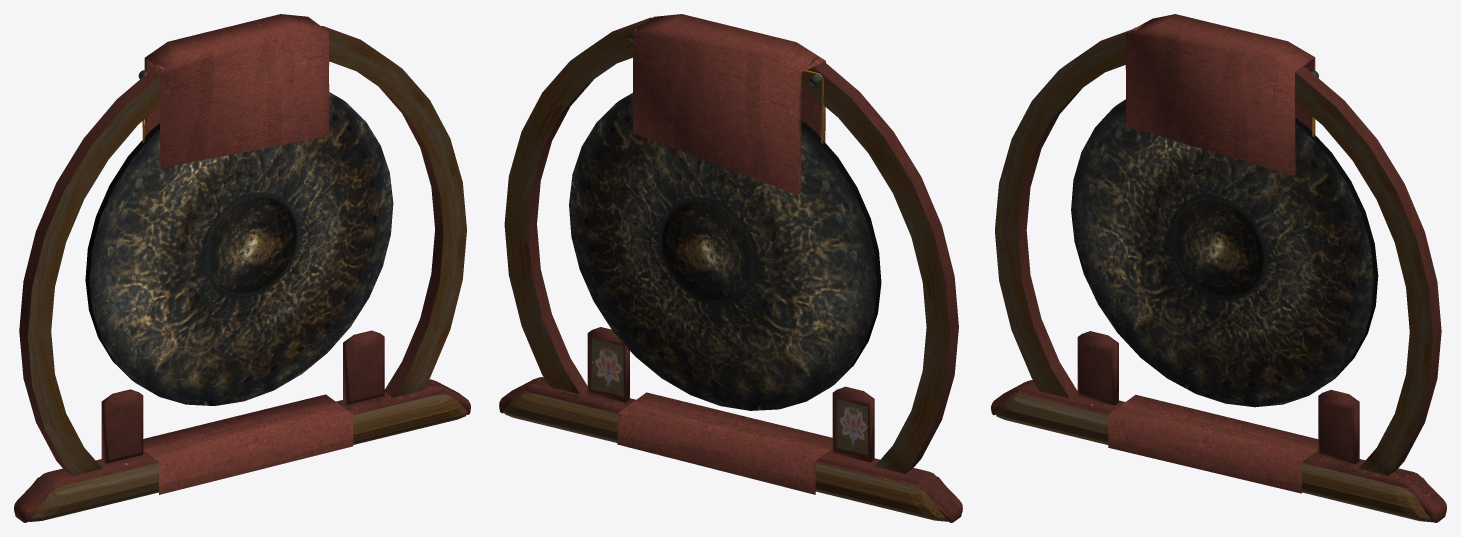
The model's file is gongappeso.glb.
3 renders of one model, left to right at view 1: azimuth 30°, elevation 25°; view 2: azimuth 150°, elevation 25°; view 3: azimuth 330°, elevation 25°, orthographic.
Visible parts, largest first — view 1: Object_9, Object_7, Object_5, Object_4.002, Object_6.001, Object_8.001, Object_10.001; view 2: Object_9, Object_7, Object_5, Object_4.002, Object_6.001, Object_8.001, Object_3, Object_2, Object_10.001; view 3: Object_9, Object_7, Object_5, Object_4.002, Object_6.001, Object_8.001, Object_10.001.
Boxes of the visible parts, <box> form: Object_9: <box>89,93,393,405</box>; Object_7: <box>28,32,467,521</box>; Object_5: <box>144,14,329,167</box>; Object_4.002: <box>143,394,353,494</box>; Object_6.001: <box>14,26,470,522</box>; Object_8.001: <box>101,330,384,463</box>; Object_10.001: <box>85,92,344,381</box>; Object_9: <box>569,93,877,410</box>; Object_7: <box>503,24,950,521</box>; Object_5: <box>633,14,825,195</box>; Object_4.002: <box>617,392,832,494</box>; Object_6.001: <box>499,17,962,522</box>; Object_8.001: <box>587,327,874,462</box>; Object_3: <box>592,338,623,396</box>; Object_2: <box>837,399,867,454</box>; Object_10.001: <box>617,93,881,387</box>; Object_9: <box>1071,99,1374,407</box>; Object_7: <box>995,35,1441,522</box>; Object_5: <box>1125,14,1315,176</box>; Object_4.002: <box>1108,394,1318,493</box>; Object_6.001: <box>991,29,1446,522</box>; Object_8.001: <box>1077,331,1359,464</box>; Object_10.001: <box>1116,99,1378,380</box>.
Bounding box in the file's own units: 1.34 × 1.23 × 0.1698.
12 materials, 9 textured.
